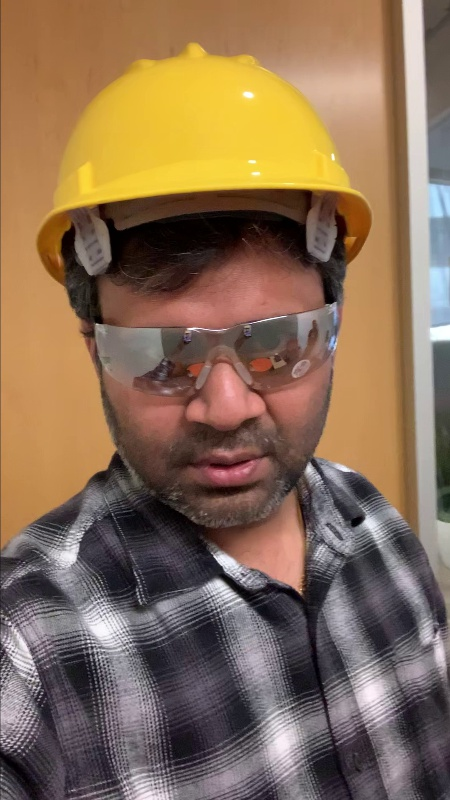glasses: (89, 298, 350, 408)
helmet: (22, 38, 377, 270)
